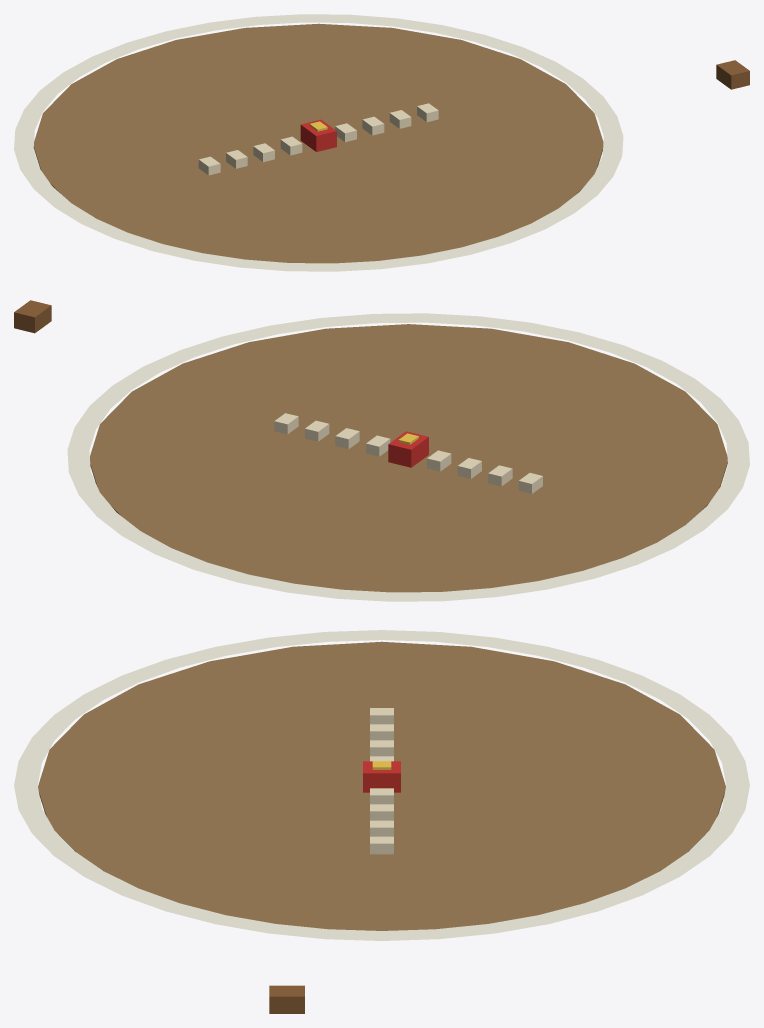
File: Ordo_Circle.obj
The picture shows the model from 3 angles, top to bottom: view 1: azimuth 30°, elevation 25°; view 2: azimuth 150°, elevation 25°; view 3: azimuth 270°, elevation 25°; orthographic projection. The views are drawn at different scales.
Visible parts, largest first — view 1: Ordo_Circle; view 2: Ordo_Circle; view 3: Ordo_Circle.
Boxes of the visible parts, <box> form: Ordo_Circle: <box>14,14,749,271</box>; Ordo_Circle: <box>14,300,749,601</box>; Ordo_Circle: <box>14,630,749,1013</box>.
Bounding box in the file's own units: 3.81 × 0.118 × 3.1.
